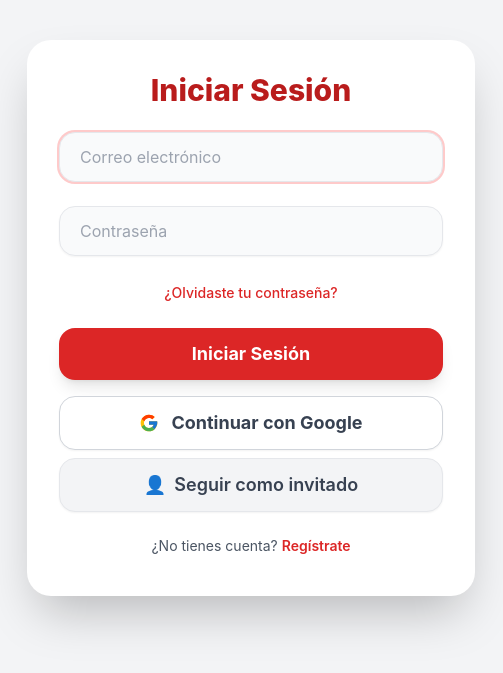
Test: Auth Component › handles successful login
The image size is (503, 673).
Type "test@example.com" into the field with placeholder "Correo electrónico".
click(251, 157); type("test@example.com")  # box [59,132,443,182]
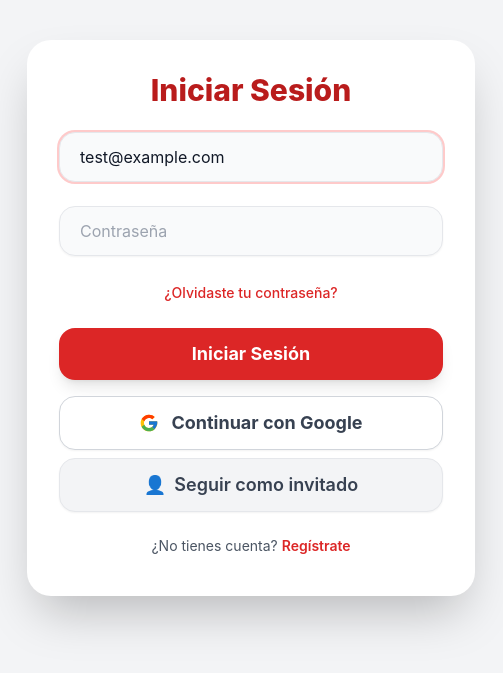
Type "password123" into the password field with placeholder "Contraseña".
click(251, 231); type("password123")  # box [59,206,443,256]
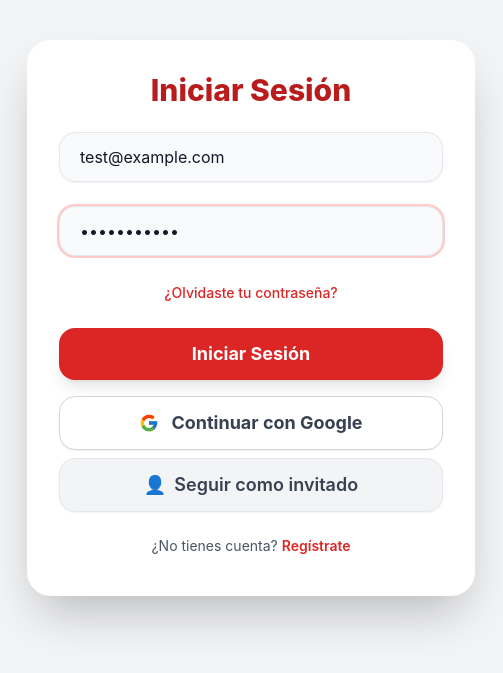
Click the button "Iniciar Sesión".
click(251, 354)  # box [59,328,443,380]
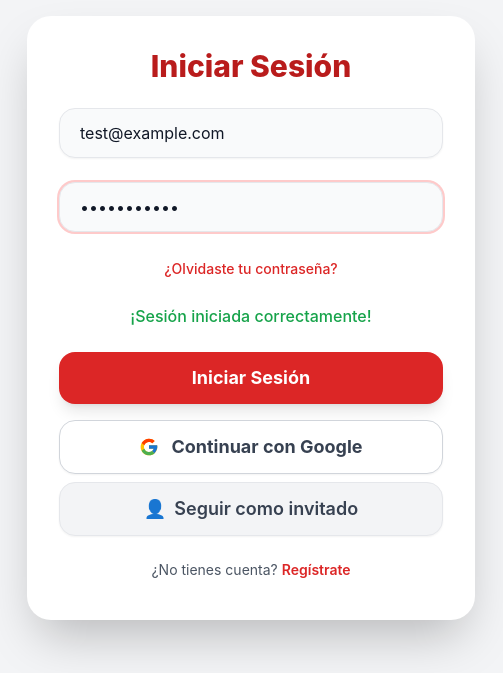
Result: the text "¡Sesión iniciada correctamente!" is shown at [130,306,372,326]
